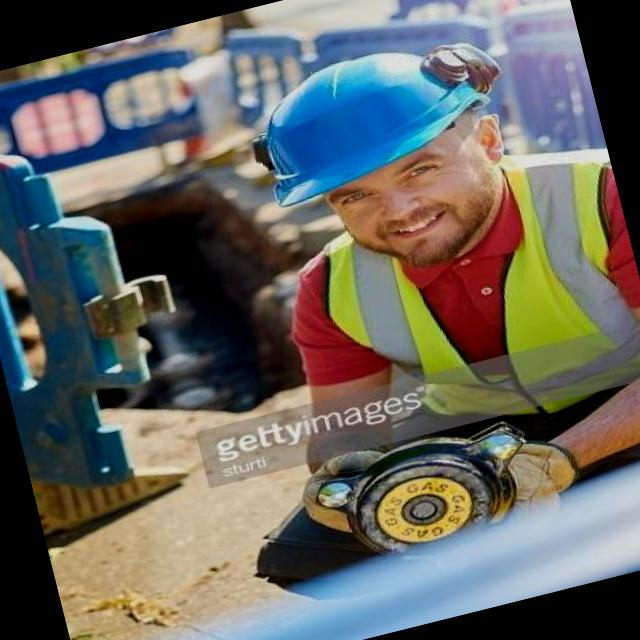helmet: (223, 18, 532, 219)
vest: (303, 159, 640, 478)
